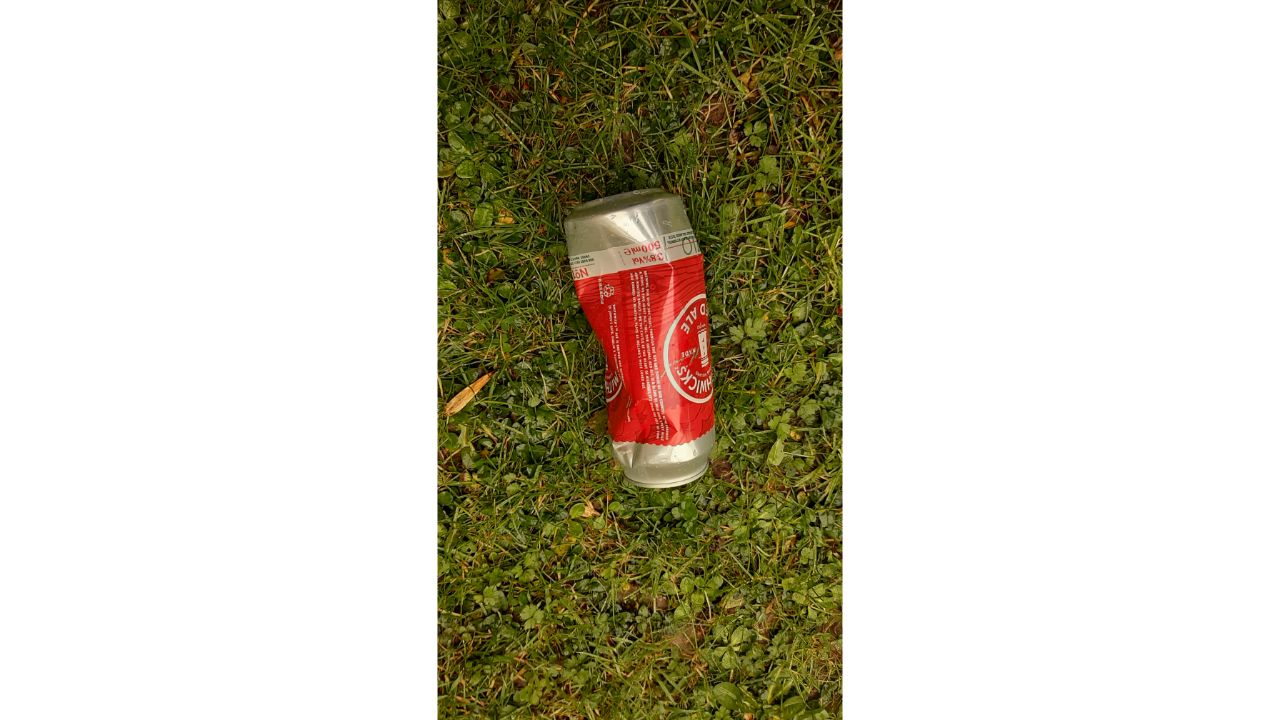Can: (561, 188, 715, 490)
